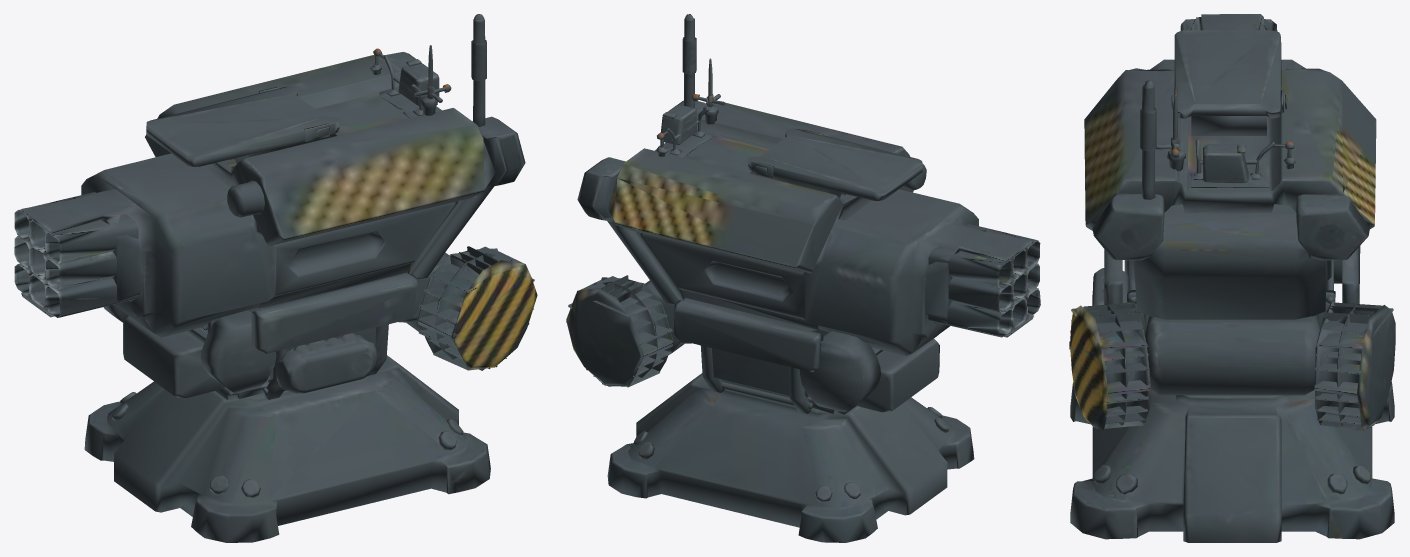
The model's file is t_shotgunT_3.glb.
3 views of the same model, side by side, from view 1: azimuth 30°, elevation 25°; view 2: azimuth 150°, elevation 25°; view 3: azimuth 270°, elevation 25° (orthographic). The views are drawn at different scales.
Size of the model in its own units: 0.9531 by 0.896 by 0.5727.
Materials: 1 (1 with a texture image).
